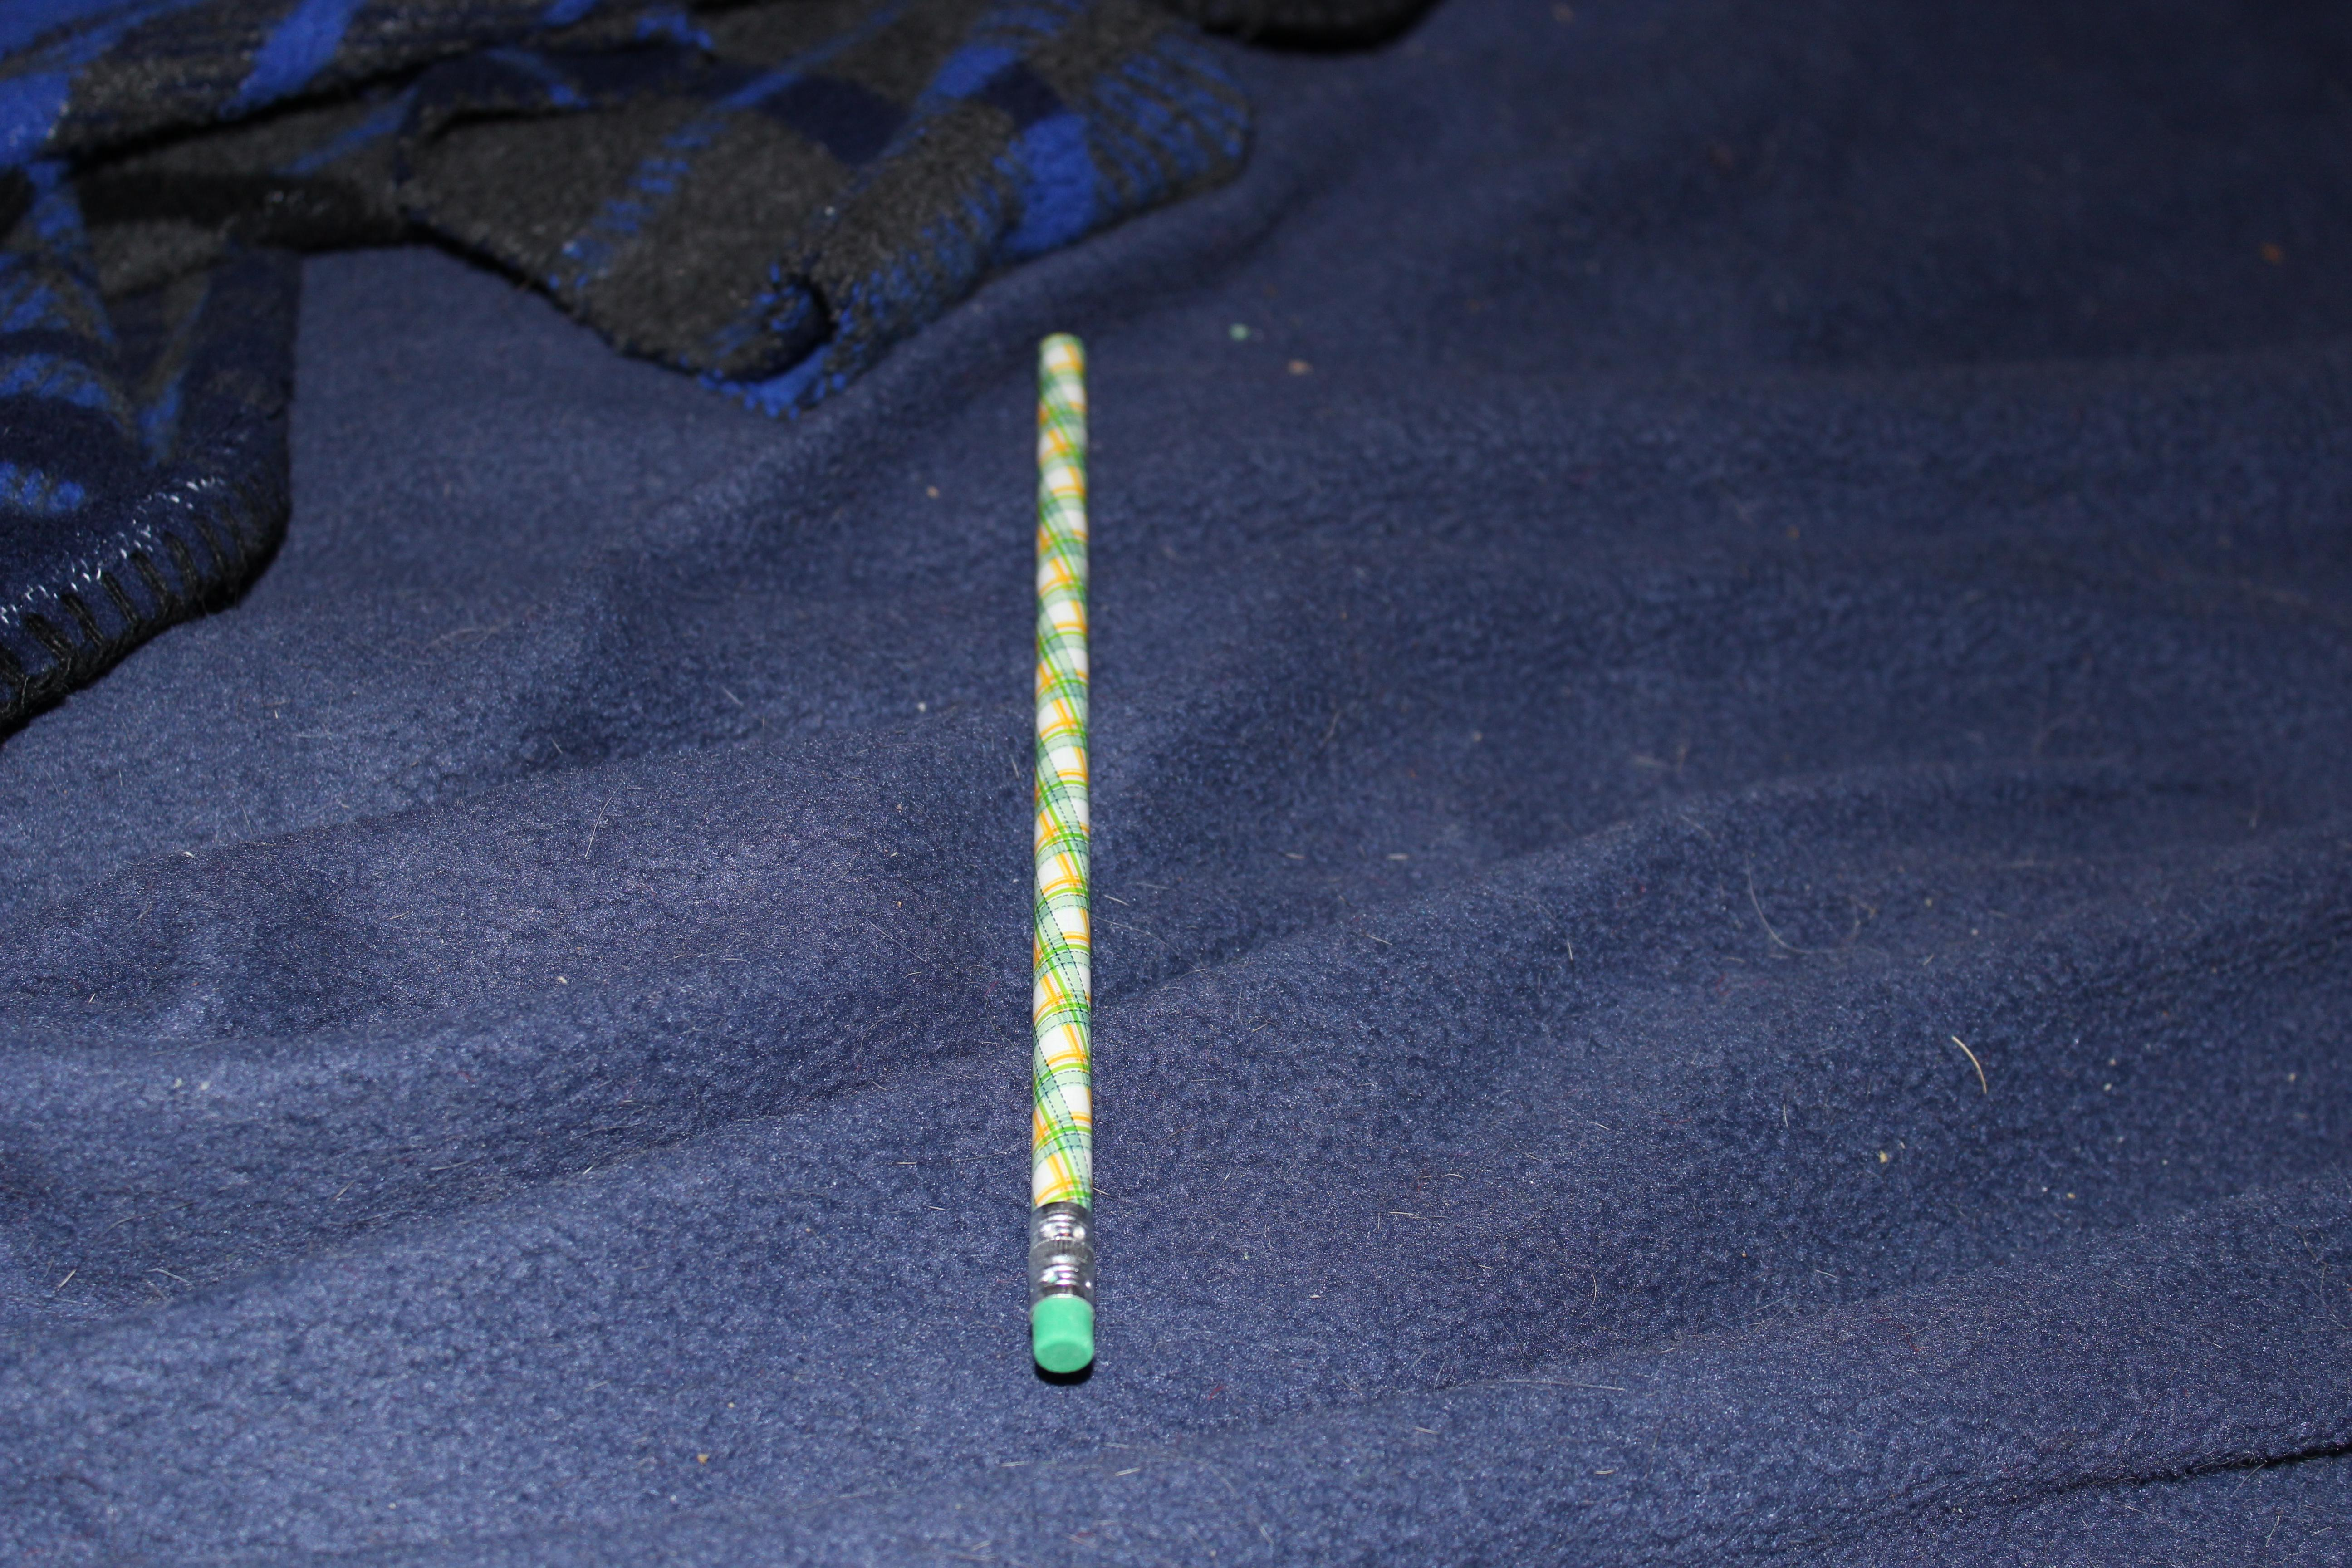plaidPencil: (987, 301, 1144, 1414)
